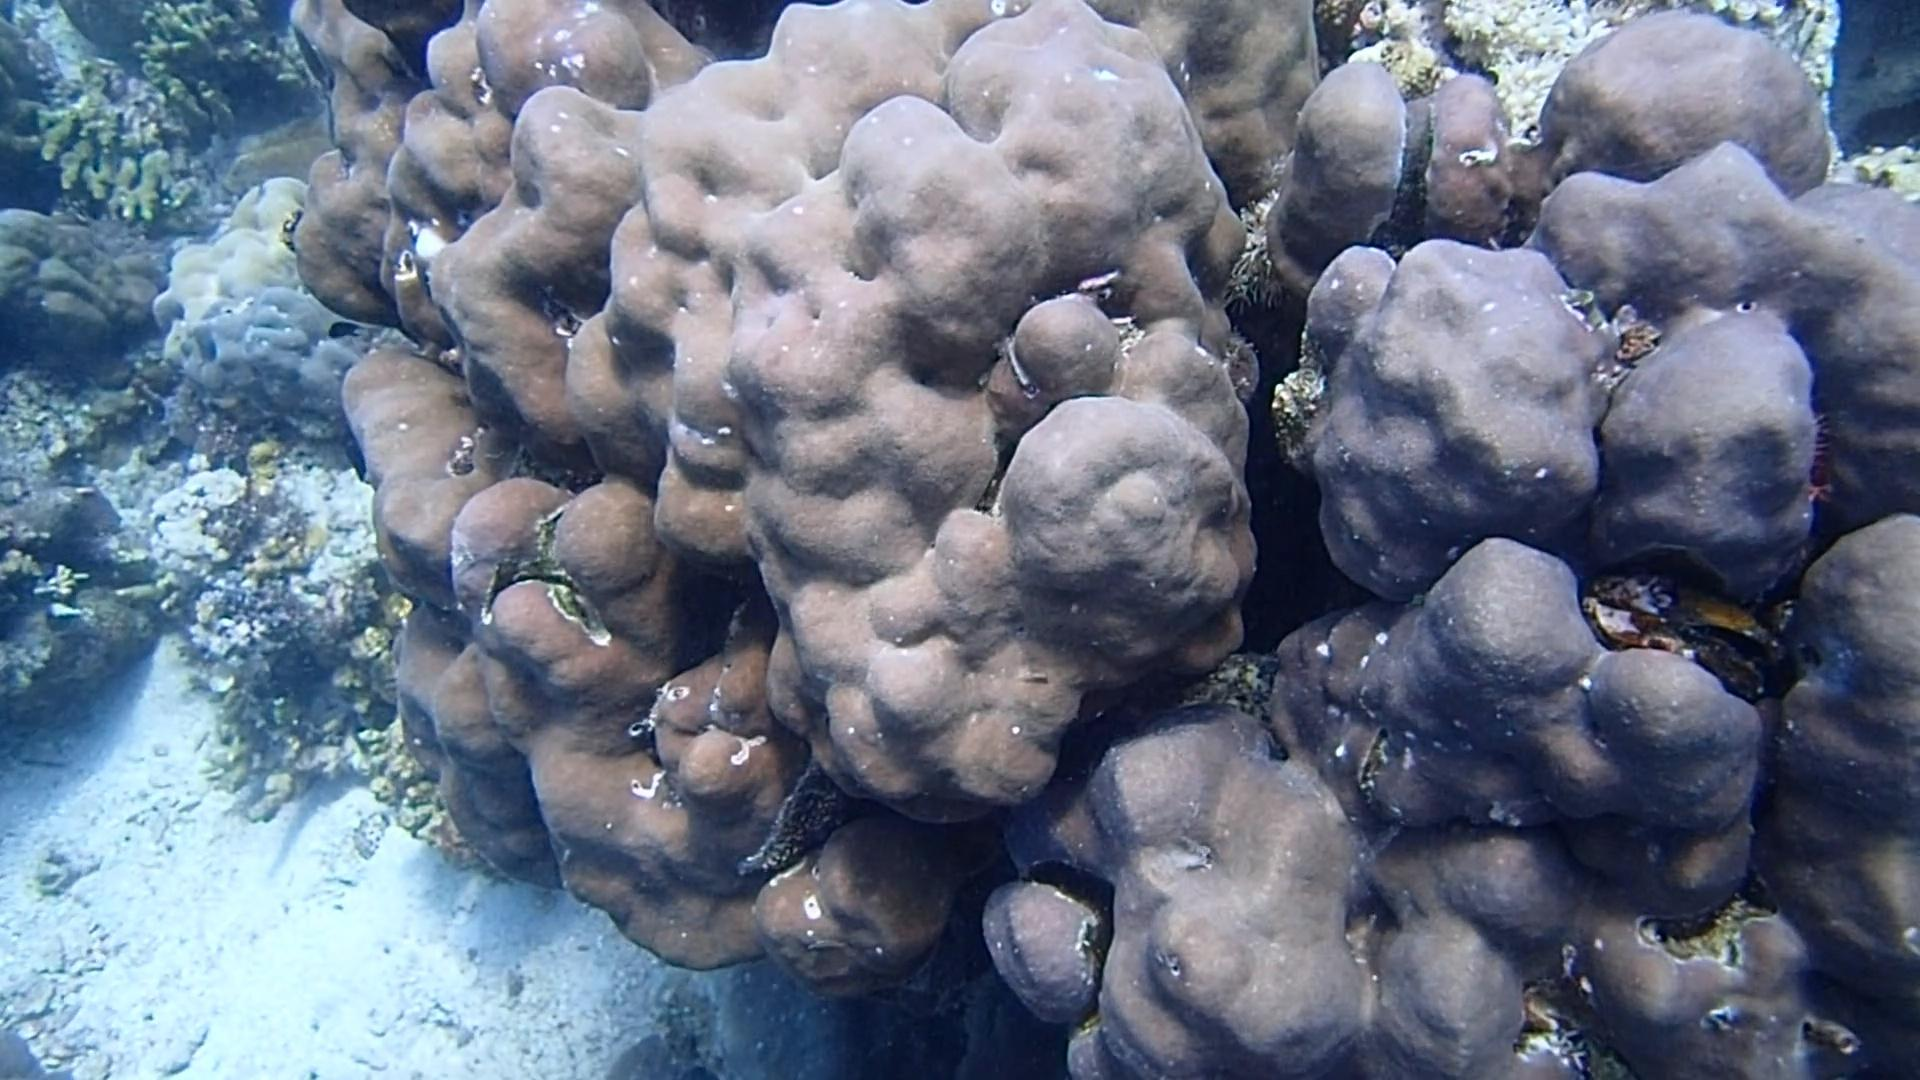Dark Fish: (320, 313, 371, 345)
